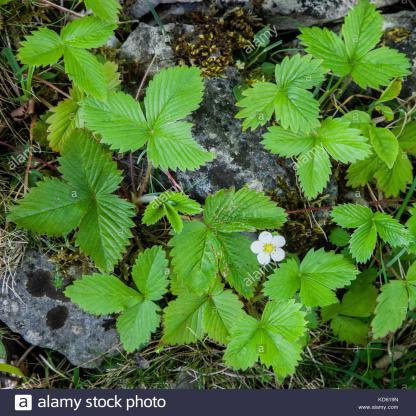Strawberry leaf: (258, 244, 359, 314), (224, 298, 310, 380), (7, 174, 95, 239), (72, 193, 136, 274), (53, 124, 123, 198), (204, 183, 293, 236), (75, 91, 152, 151), (142, 63, 212, 126), (144, 118, 224, 173), (170, 218, 226, 296), (60, 268, 140, 316), (292, 22, 353, 79), (58, 41, 113, 103), (160, 289, 214, 350), (112, 299, 164, 362), (232, 80, 288, 137), (312, 118, 376, 167), (346, 44, 413, 90), (270, 82, 320, 141), (127, 244, 175, 304), (343, 1, 386, 66), (12, 27, 69, 72), (294, 139, 336, 200), (256, 126, 325, 161), (275, 54, 331, 90), (64, 15, 120, 50), (349, 214, 378, 264), (376, 212, 412, 248), (330, 202, 375, 230)
